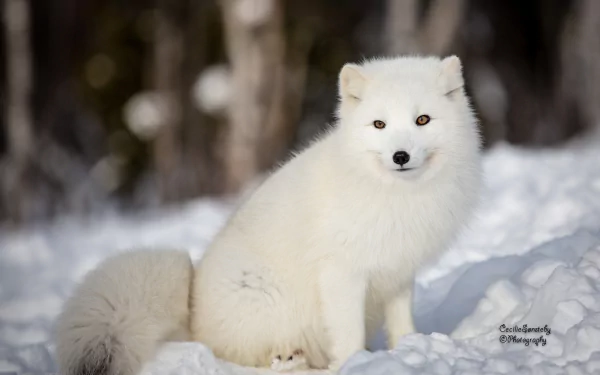arcticfox: (362, 89, 453, 198)
